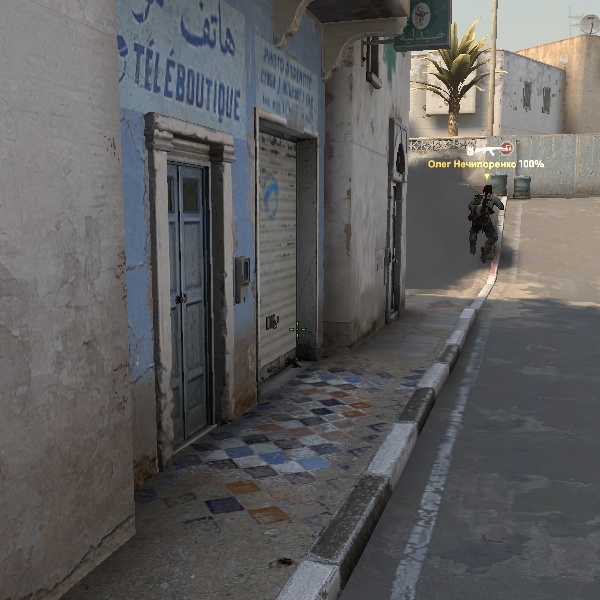t_body: (467, 184, 505, 261)
t_head: (483, 184, 493, 199)
